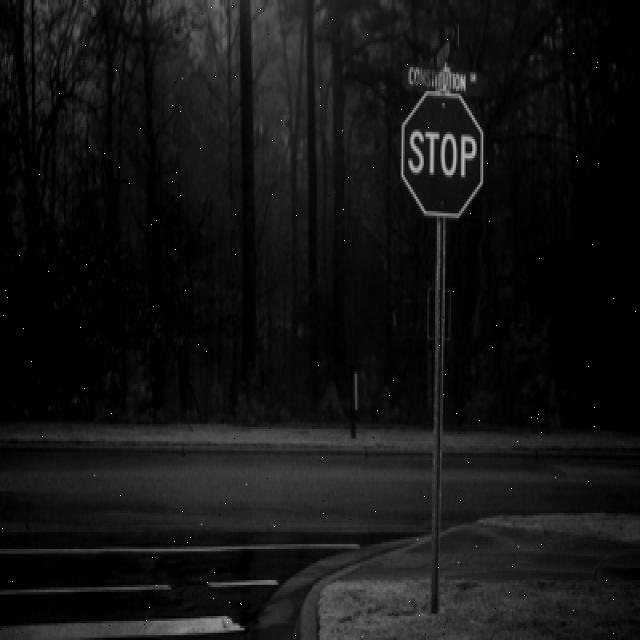Stop-signs: (401, 93, 484, 216)
